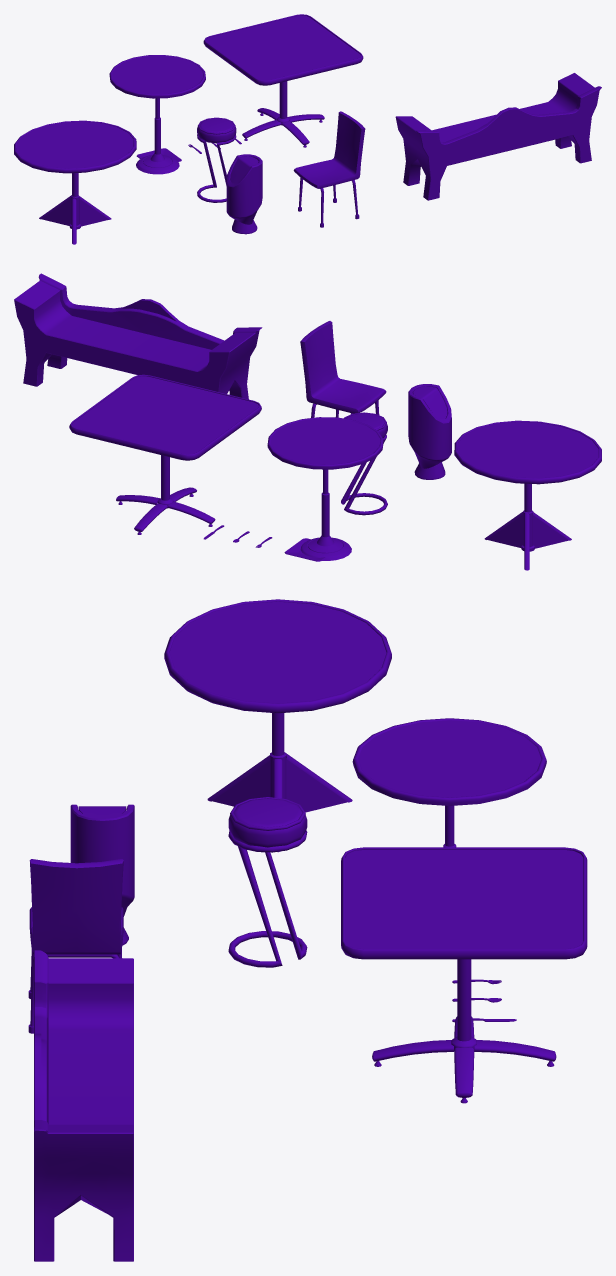
The model's file is Atlas3.fbx.
3 renders of one model, top to bottom at view 1: azimuth 30°, elevation 25°; view 2: azimuth 150°, elevation 25°; view 3: azimuth 270°, elevation 25°, orthographic. The views are drawn at different scales.
Parts seen in each view (by area): view 1: Sandalye3, Masa1, Masa3, Masa2, Sandalye2, CopKutu, Sandalye1; view 2: Sandalye3, Masa1, Masa3, Masa2, Sandalye2, CopKutu, Sandalye1; view 3: Masa1, Sandalye3, Masa3, Masa2, Sandalye2, Sandalye1, CopKutu.
Part boxes in pixels (<box>): Sandalye3: <box>395,73,601,200</box>; Masa1: <box>203,14,363,147</box>; Masa3: <box>14,120,136,244</box>; Masa2: <box>109,55,205,174</box>; Sandalye2: <box>293,111,365,227</box>; CopKutu: <box>226,154,262,234</box>; Sandalye1: <box>197,117,236,202</box>; Sandalye3: <box>14,273,262,399</box>; Masa1: <box>69,374,261,534</box>; Masa3: <box>454,420,601,570</box>; Masa2: <box>267,417,383,560</box>; Sandalye2: <box>300,321,386,417</box>; CopKutu: <box>408,384,451,479</box>; Sandalye1: <box>341,412,387,515</box>; Masa1: <box>341,847,587,1103</box>; Sandalye3: <box>34,950,133,1261</box>; Masa3: <box>164,599,391,852</box>; Masa2: <box>352,718,546,847</box>; Sandalye2: <box>28,859,123,1033</box>; Sandalye1: <box>228,797,307,967</box>; CopKutu: <box>70,804,134,945</box>.
Bounding box in the file's own units: 625 × 104 × 291.
